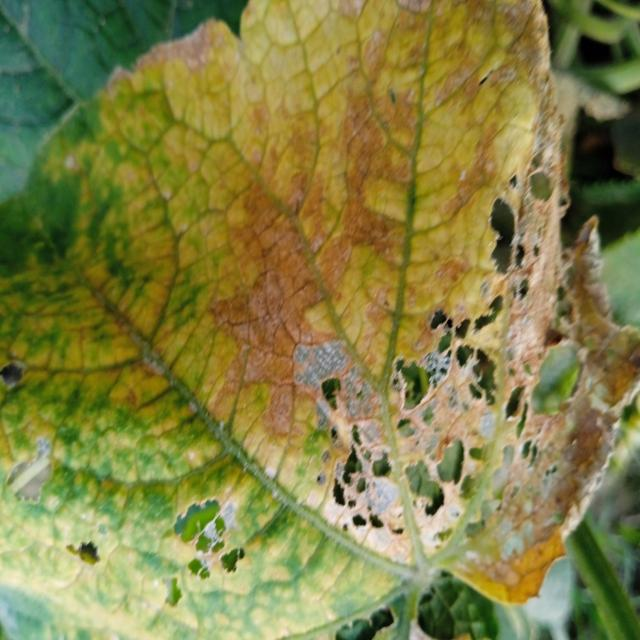cucumber_anthracnose: (11, 56, 622, 607)
